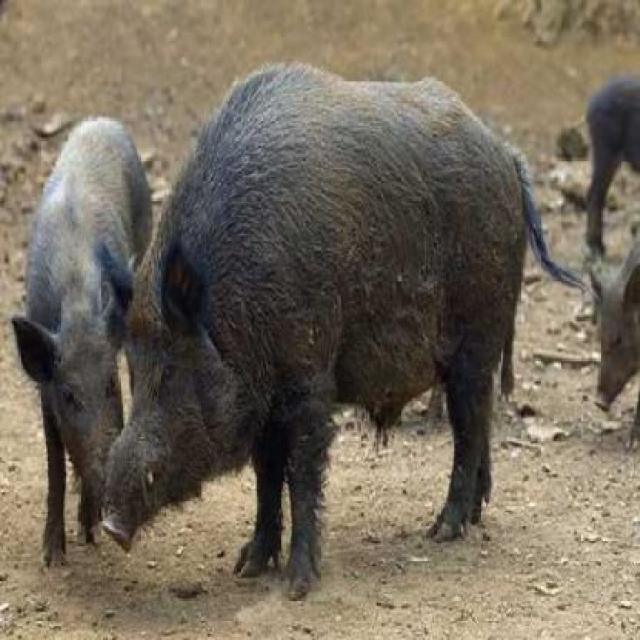pig: (92, 68, 566, 582), (0, 92, 156, 547)
